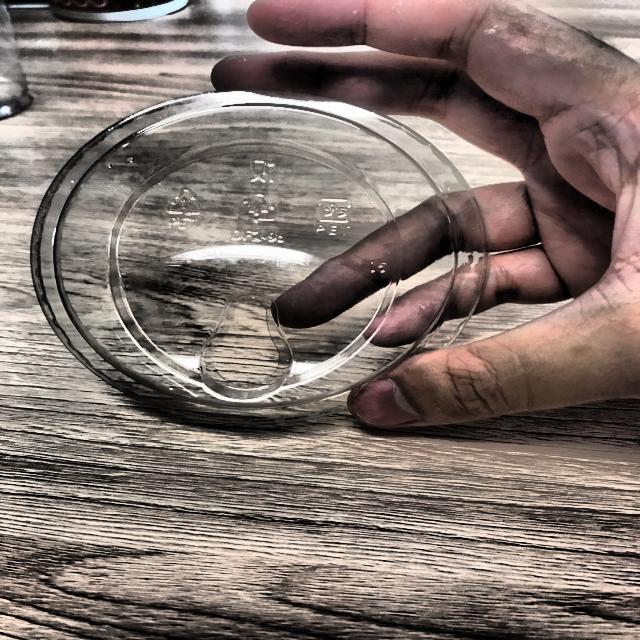plastic cup: (26, 91, 497, 431)
